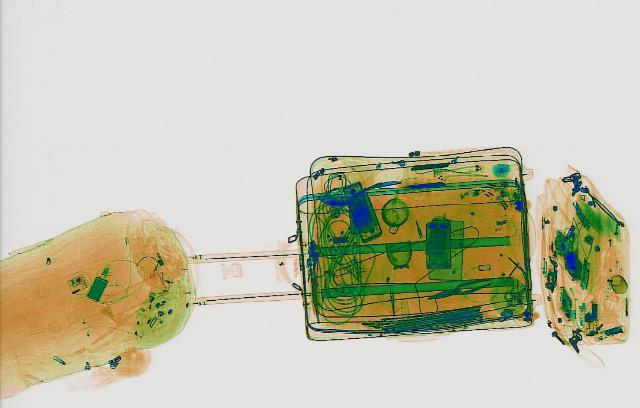Pliers: (424, 275, 496, 300)
